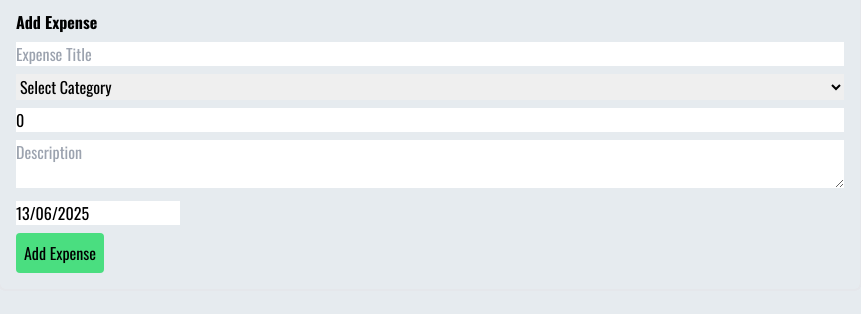
Test case: addExpense › AddExpensesAppDashboardProps input validations › displays an error message if the {"name":"category"} field is empty
Step 1. Type "input title" into the field with test id "title" → (430,54), box [16,42,844,66]
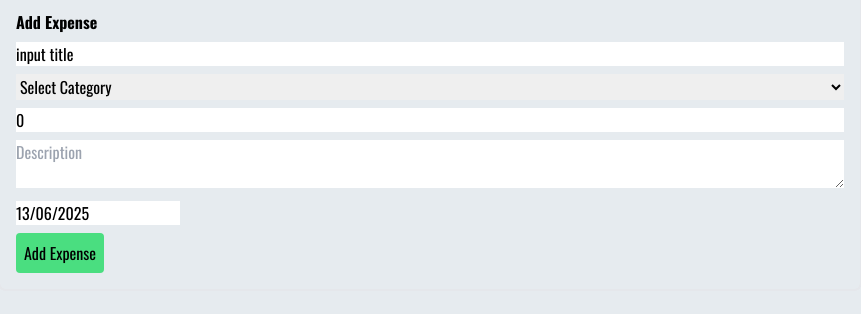
Step 2. Replace the text in the number field with test id "amount" with "100" → (430,120), box [16,108,844,132]
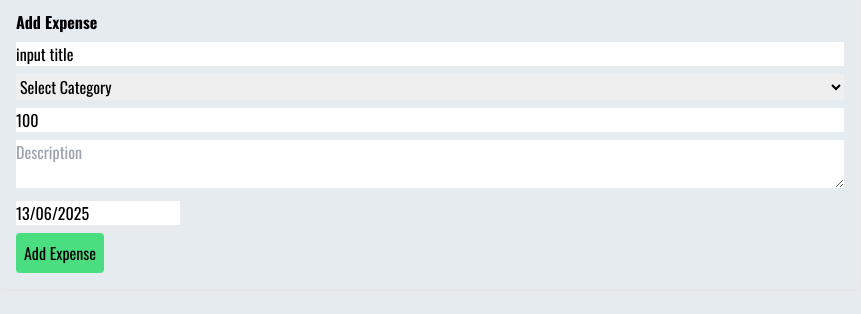
Step 3. Type "description" into the text box with test id "description" → (430,164), box [16,140,844,188]
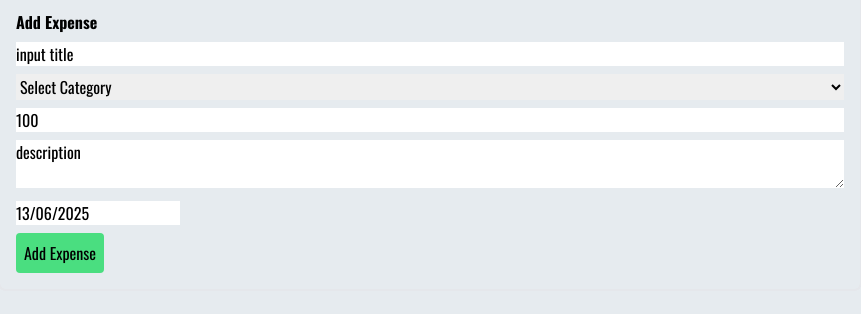
Step 4. Submit the form with test id "add-expense-form"
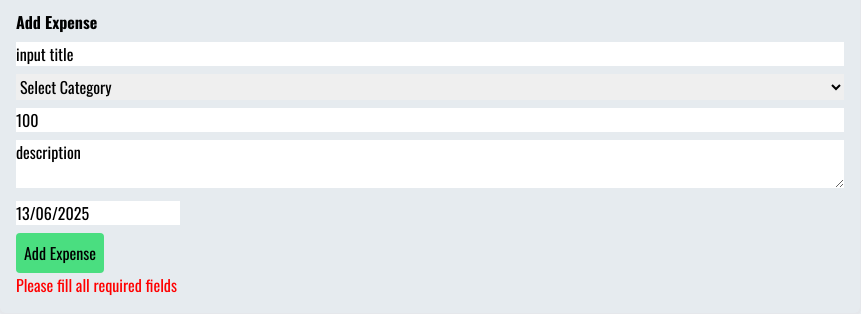
Expected: the text with test id "submit-message" reads "Please fill all required fields", [16,273,177,297]
